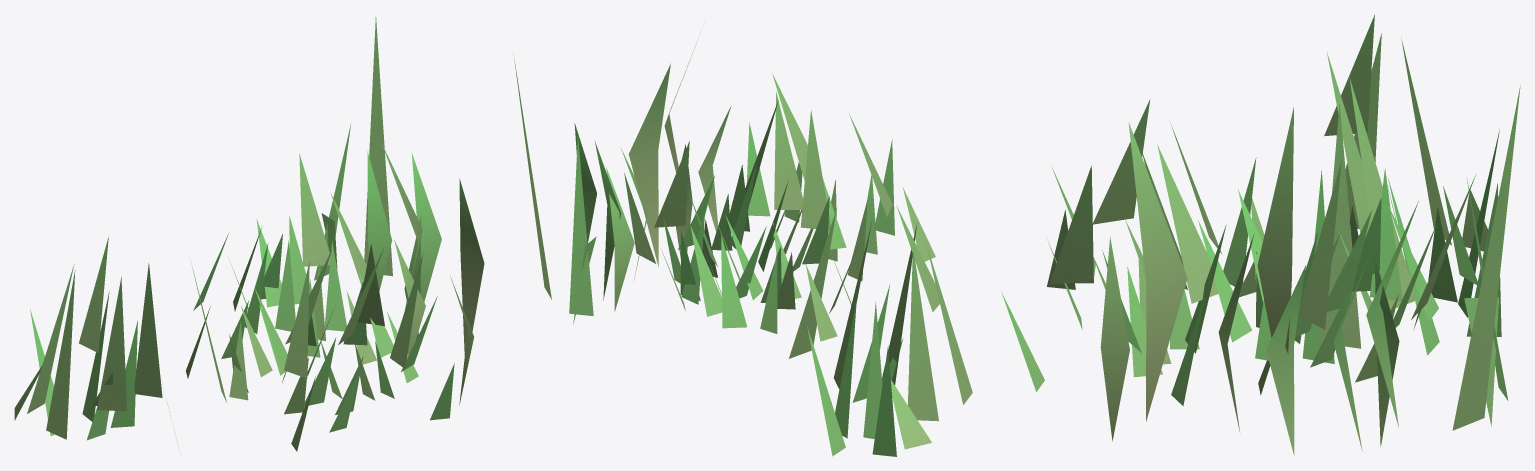
Rendered from grass_touffe_3.fbx.
3 renders of one model, left to right at view 1: azimuth 30°, elevation 25°; view 2: azimuth 150°, elevation 25°; view 3: azimuth 270°, elevation 25°, orthographic. The views are drawn at different scales.
Parts seen in each view (by area): view 1: grass_touffe_3; view 2: grass_touffe_3; view 3: grass_touffe_3.
Part boxes in pixels (left/top/right/bottom): grass_touffe_3: left=14, top=16, right=484, bottom=451; grass_touffe_3: left=513, top=41, right=972, bottom=456; grass_touffe_3: left=1001, top=14, right=1520, bottom=455.
Size of the model in its own units: 20.51 by 16.46 by 16.62.
